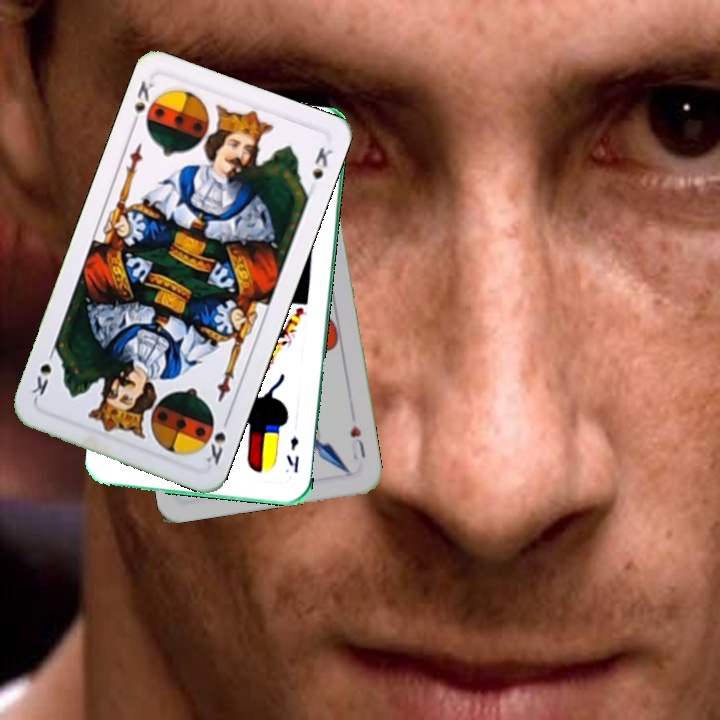EK: (282, 432, 301, 476)
HU: (346, 421, 368, 462)
SK: (127, 76, 162, 131), (202, 411, 233, 467)
